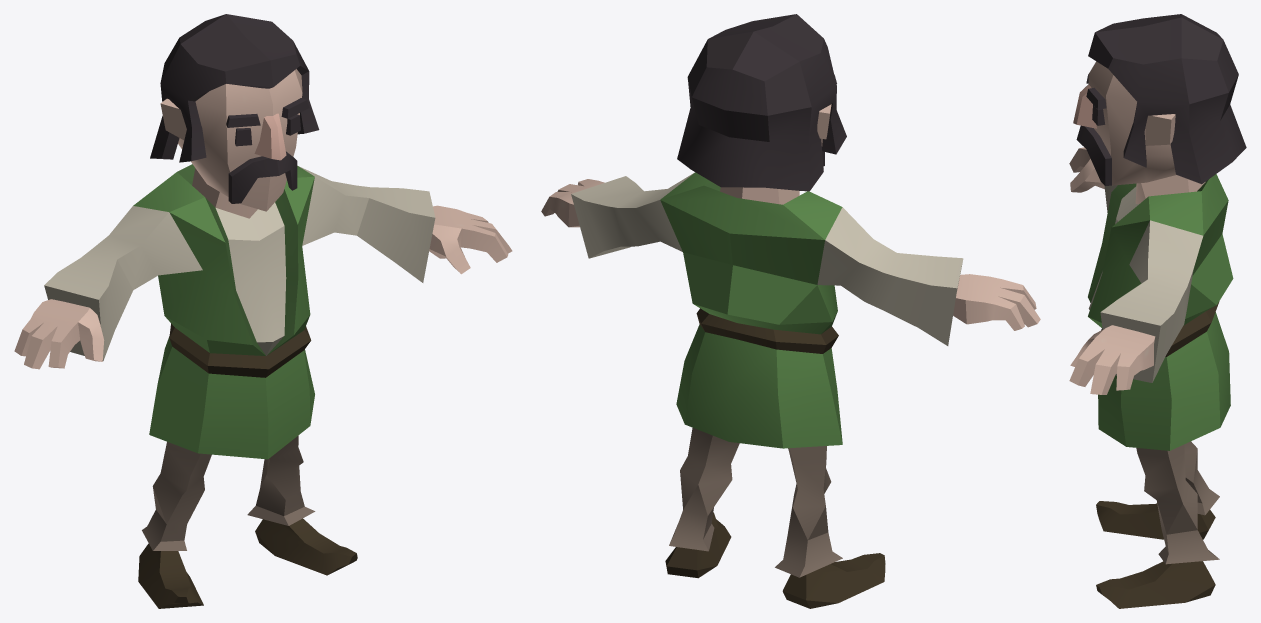
The model's file is Sketchfab_2017_11_01_03_46_42 1.fbx.
3 renders of one model, left to right at view 1: azimuth 30°, elevation 25°; view 2: azimuth 150°, elevation 25°; view 3: azimuth 270°, elevation 25°, orthographic.
Visible parts, largest first — view 1: peasent; view 2: peasent; view 3: peasent.
Part boxes in pixels (box(x1,y1,x2,y2)): peasent: box(14, 14, 512, 608); peasent: box(541, 14, 1040, 608); peasent: box(1069, 14, 1246, 608).
Size of the model in its own units: 145 by 156 by 46.08.
